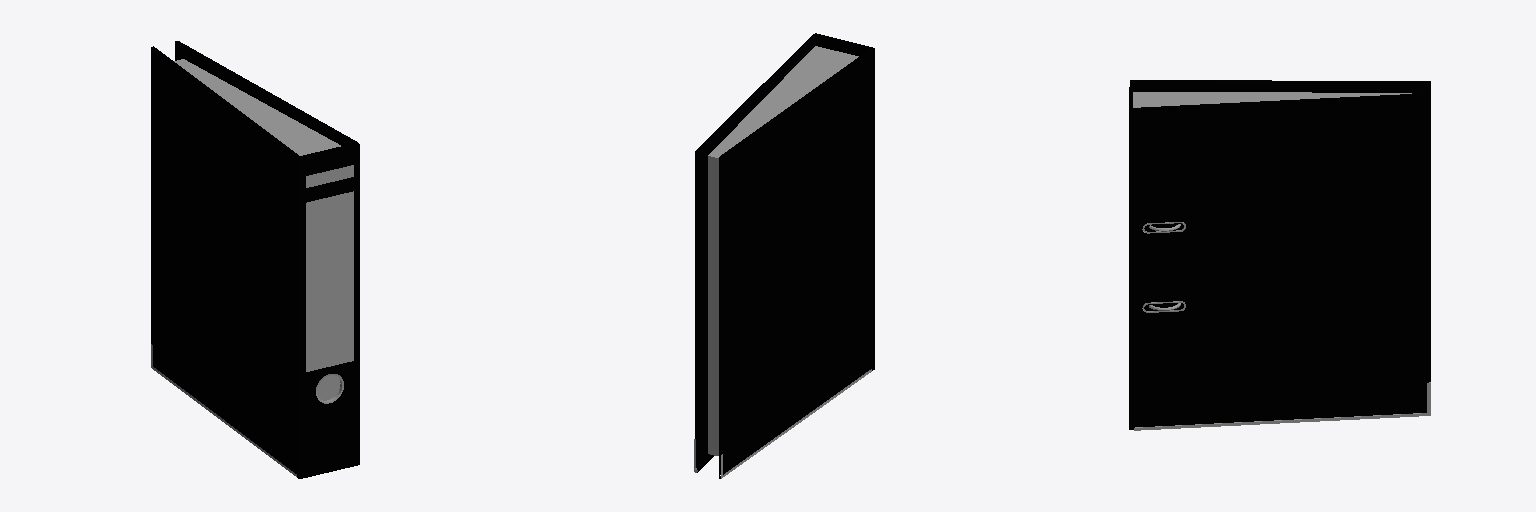
File: ordner2.obj
The picture shows the model from 3 angles: view 1: azimuth 30°, elevation 25°; view 2: azimuth 150°, elevation 25°; view 3: azimuth 270°, elevation 25°; orthographic projection.
Visible parts, largest first — view 1: Cube; view 2: Cube; view 3: Cube.
Part boxes in pixels (x1,y1,x2,y2): Cube: (151, 41, 359, 478); Cube: (694, 33, 874, 478); Cube: (1129, 80, 1430, 430).
Bounding box in the file's own units: 0.3959 × 1.92 × 1.64.